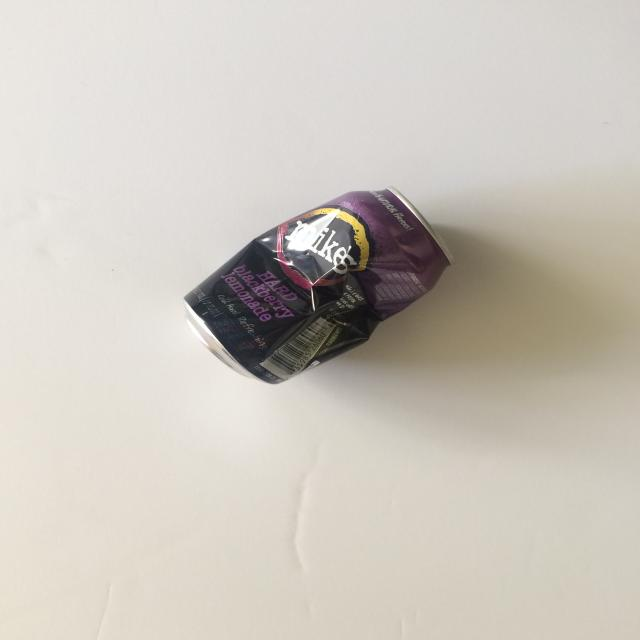metal: (182, 185, 453, 385)
